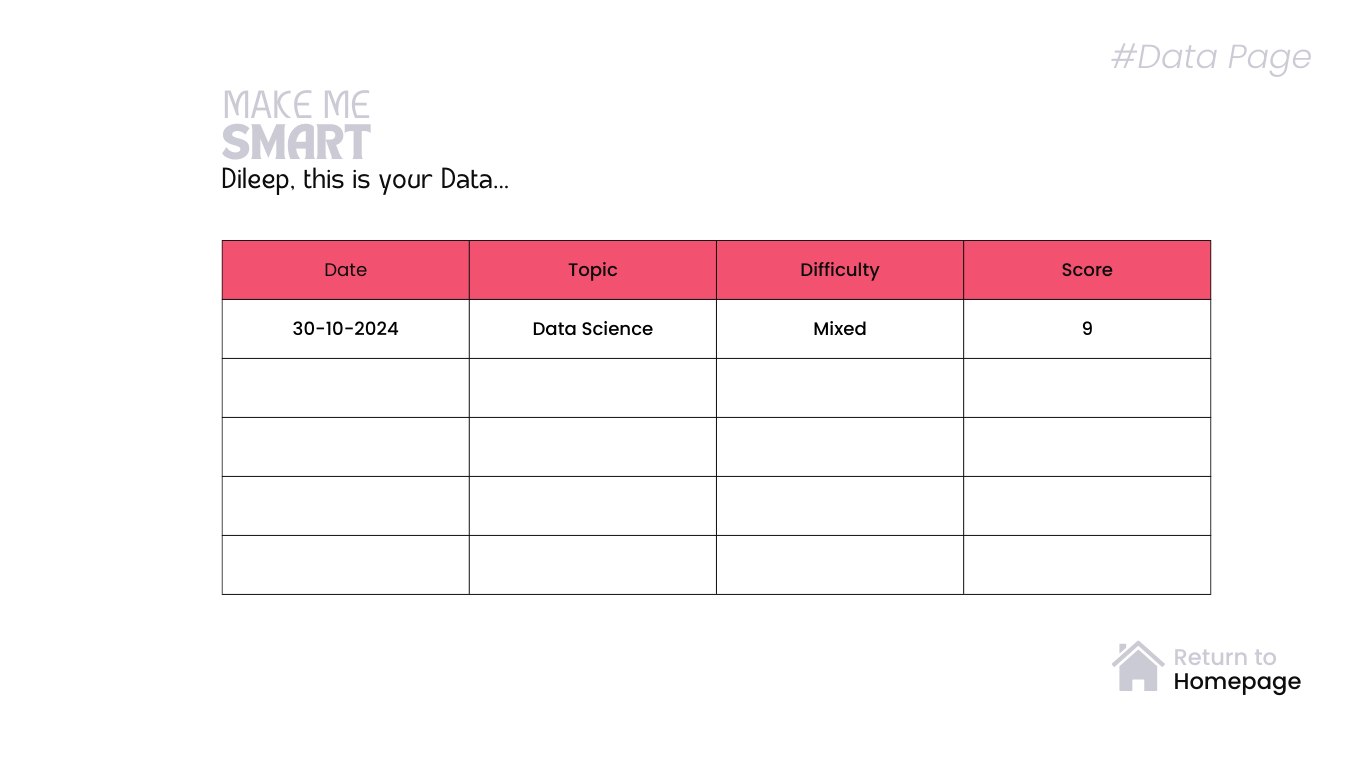

What the dashboard file says about the page in this screenshot:
{"tool":"tableau","page":{"name":"Dashboard 1","canvas":[1000,1000],"units":"permille","ordinal":0},"visuals":[{"type":"text","box":[4.7,8.9,990.6,175.2]},{"type":"worksheet","title":"Sheet 1","mark":"Automatic","rows":["score"],"cols":["topic"],"box":[4.7,184.2,990.6,806.9]}]}

Visuals, with their boxes on the dashboard's canvas, which has no fixed pixel size, in thousandths of its width and height (x1, y1, x2, y2). These are canvas units, not pixel positions in the 1366x768 screenshot, which may show the page scaled, cropped or inside an application window:
text: [5, 9, 995, 184]
"Sheet 1" worksheet: [5, 184, 995, 991]
